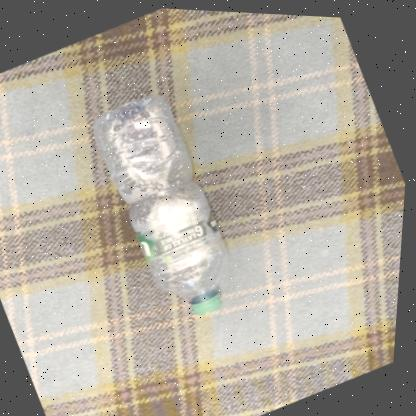Plastic: (95, 93, 231, 312)
